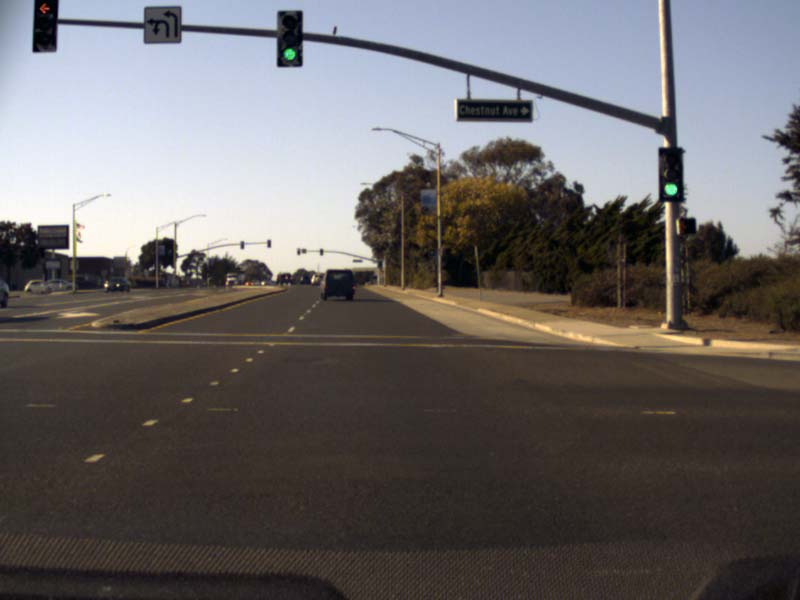Green: (276, 10, 302, 65), (657, 147, 683, 201)
